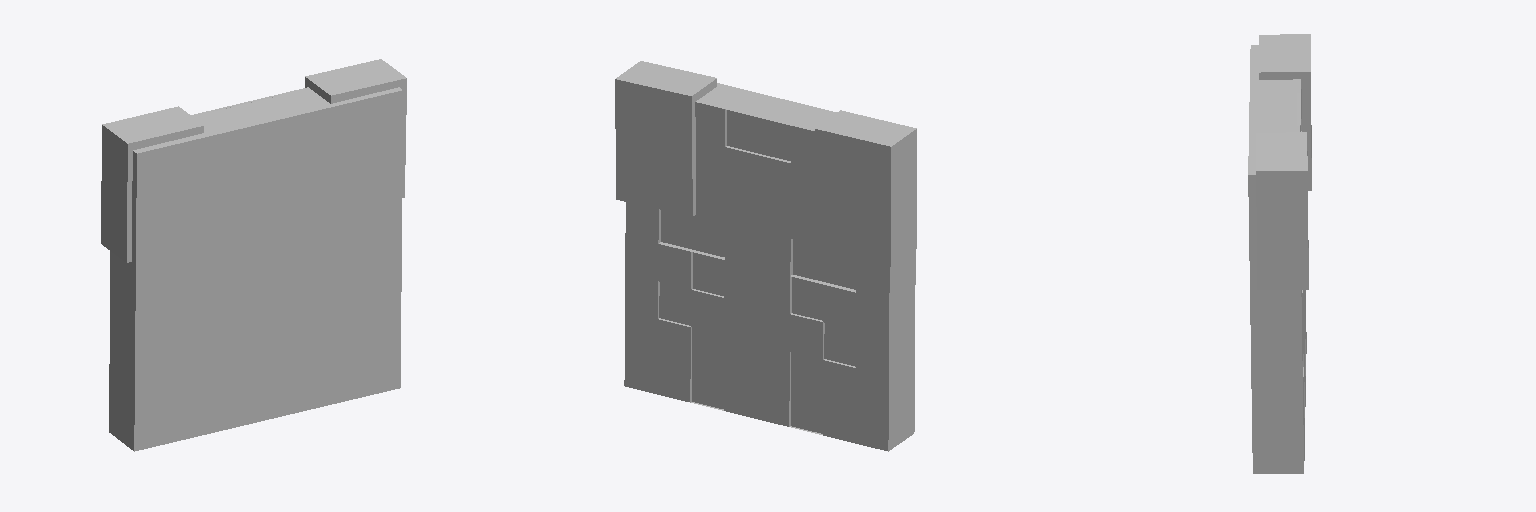
File: maske-of-demiurg.obj
The picture shows the model from 3 angles: view 1: azimuth 30°, elevation 25°; view 2: azimuth 150°, elevation 25°; view 3: azimuth 270°, elevation 25°; orthographic projection.
Visible parts, largest first — view 1: Куб; view 2: Куб; view 3: Куб.
Boxes of the visible parts, x1,y1,x2,y2 form: Куб: [101, 59, 406, 451]; Куб: [615, 61, 916, 451]; Куб: [1248, 34, 1311, 473].
Size of the model in its own units: 2.63 by 2.78 by 0.5201.